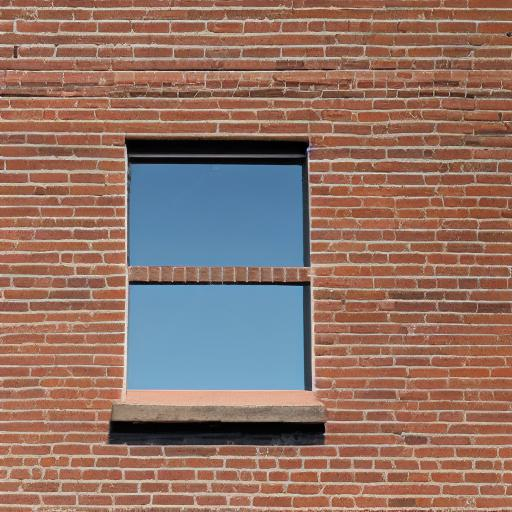Window: (109, 134, 329, 430)
